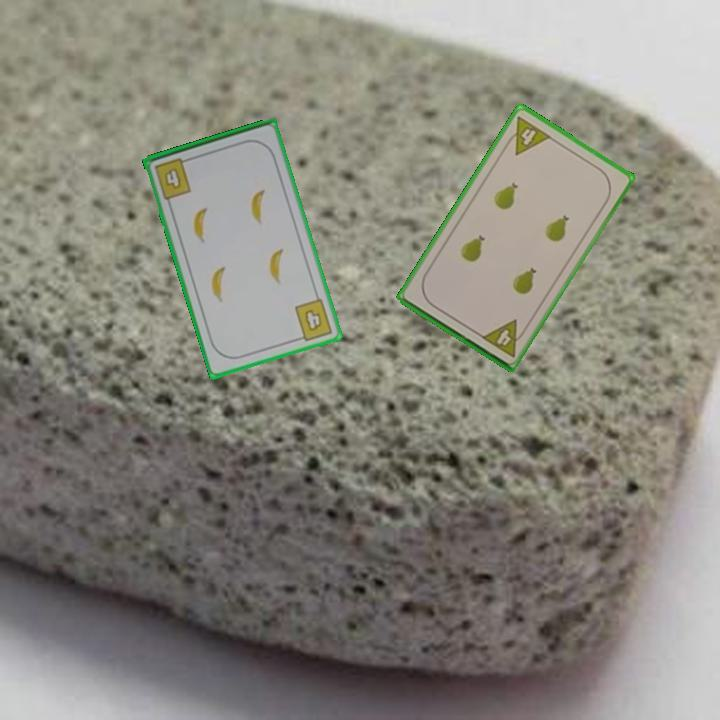4b: (291, 295, 336, 344), (151, 154, 194, 202)
4p: (500, 112, 554, 158), (477, 316, 530, 360)
